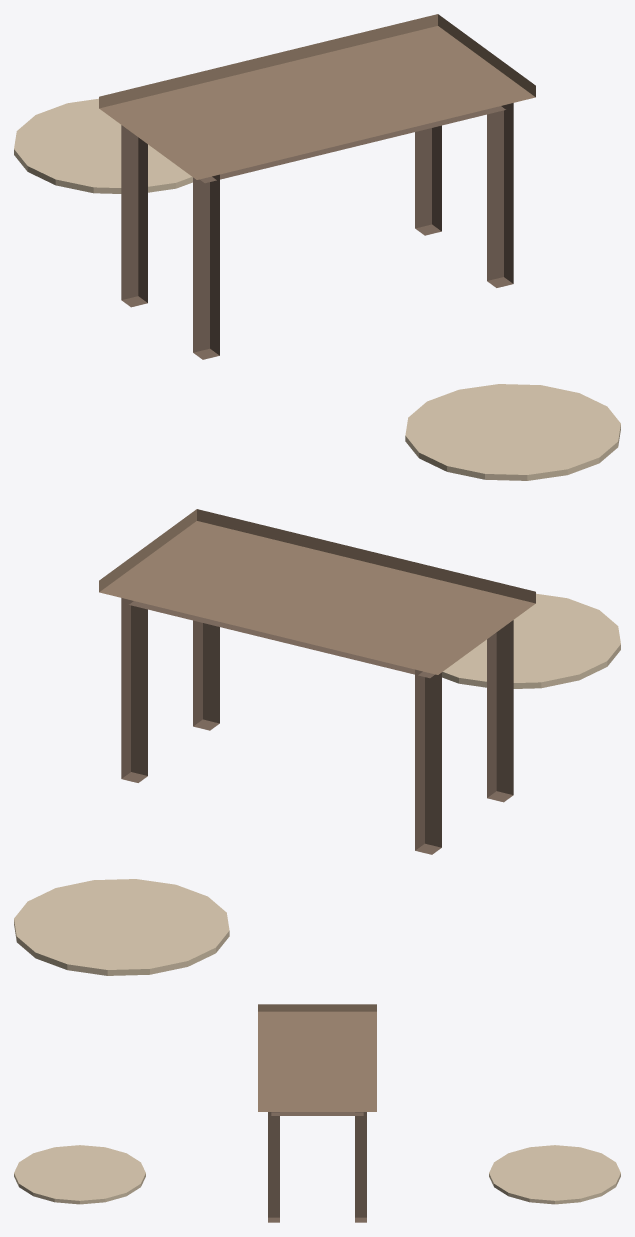
The model's file is table.glb.
3 views of the same model, one above another, from view 1: azimuth 30°, elevation 25°; view 2: azimuth 150°, elevation 25°; view 3: azimuth 270°, elevation 25° (orthographic). The views are drawn at different scales.
Visible parts, largest first — view 1: top, pads, frame; view 2: top, pads, frame; view 3: top, pads, frame.
Boxes of the visible parts, box(x1,y1,x2,y2) form: top: box(99, 14, 535, 179); pads: box(14, 98, 620, 480); frame: box(121, 103, 513, 359); top: box(99, 509, 535, 674); pads: box(14, 593, 620, 975); frame: box(121, 598, 513, 854); top: box(258, 1004, 376, 1111); pads: box(14, 1145, 620, 1204); frame: box(268, 1112, 366, 1222).
Size of what is drawn, in the model's own units: 1.8 by 1.02 by 4.6.
